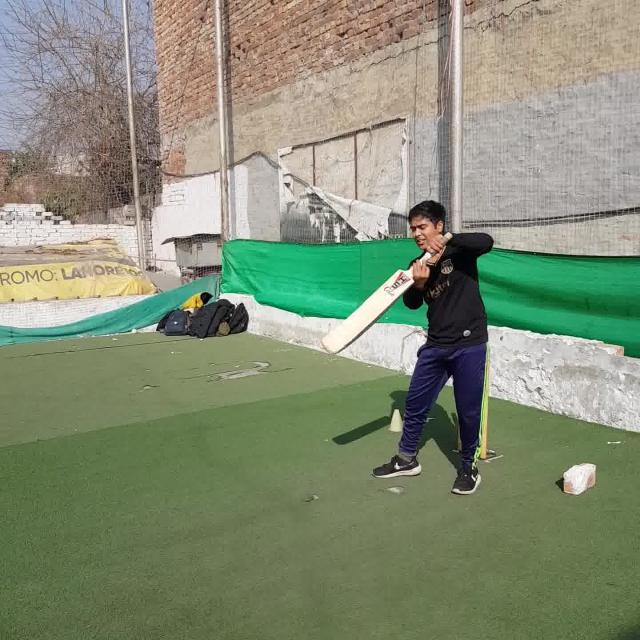bat: (322, 232, 452, 356)
